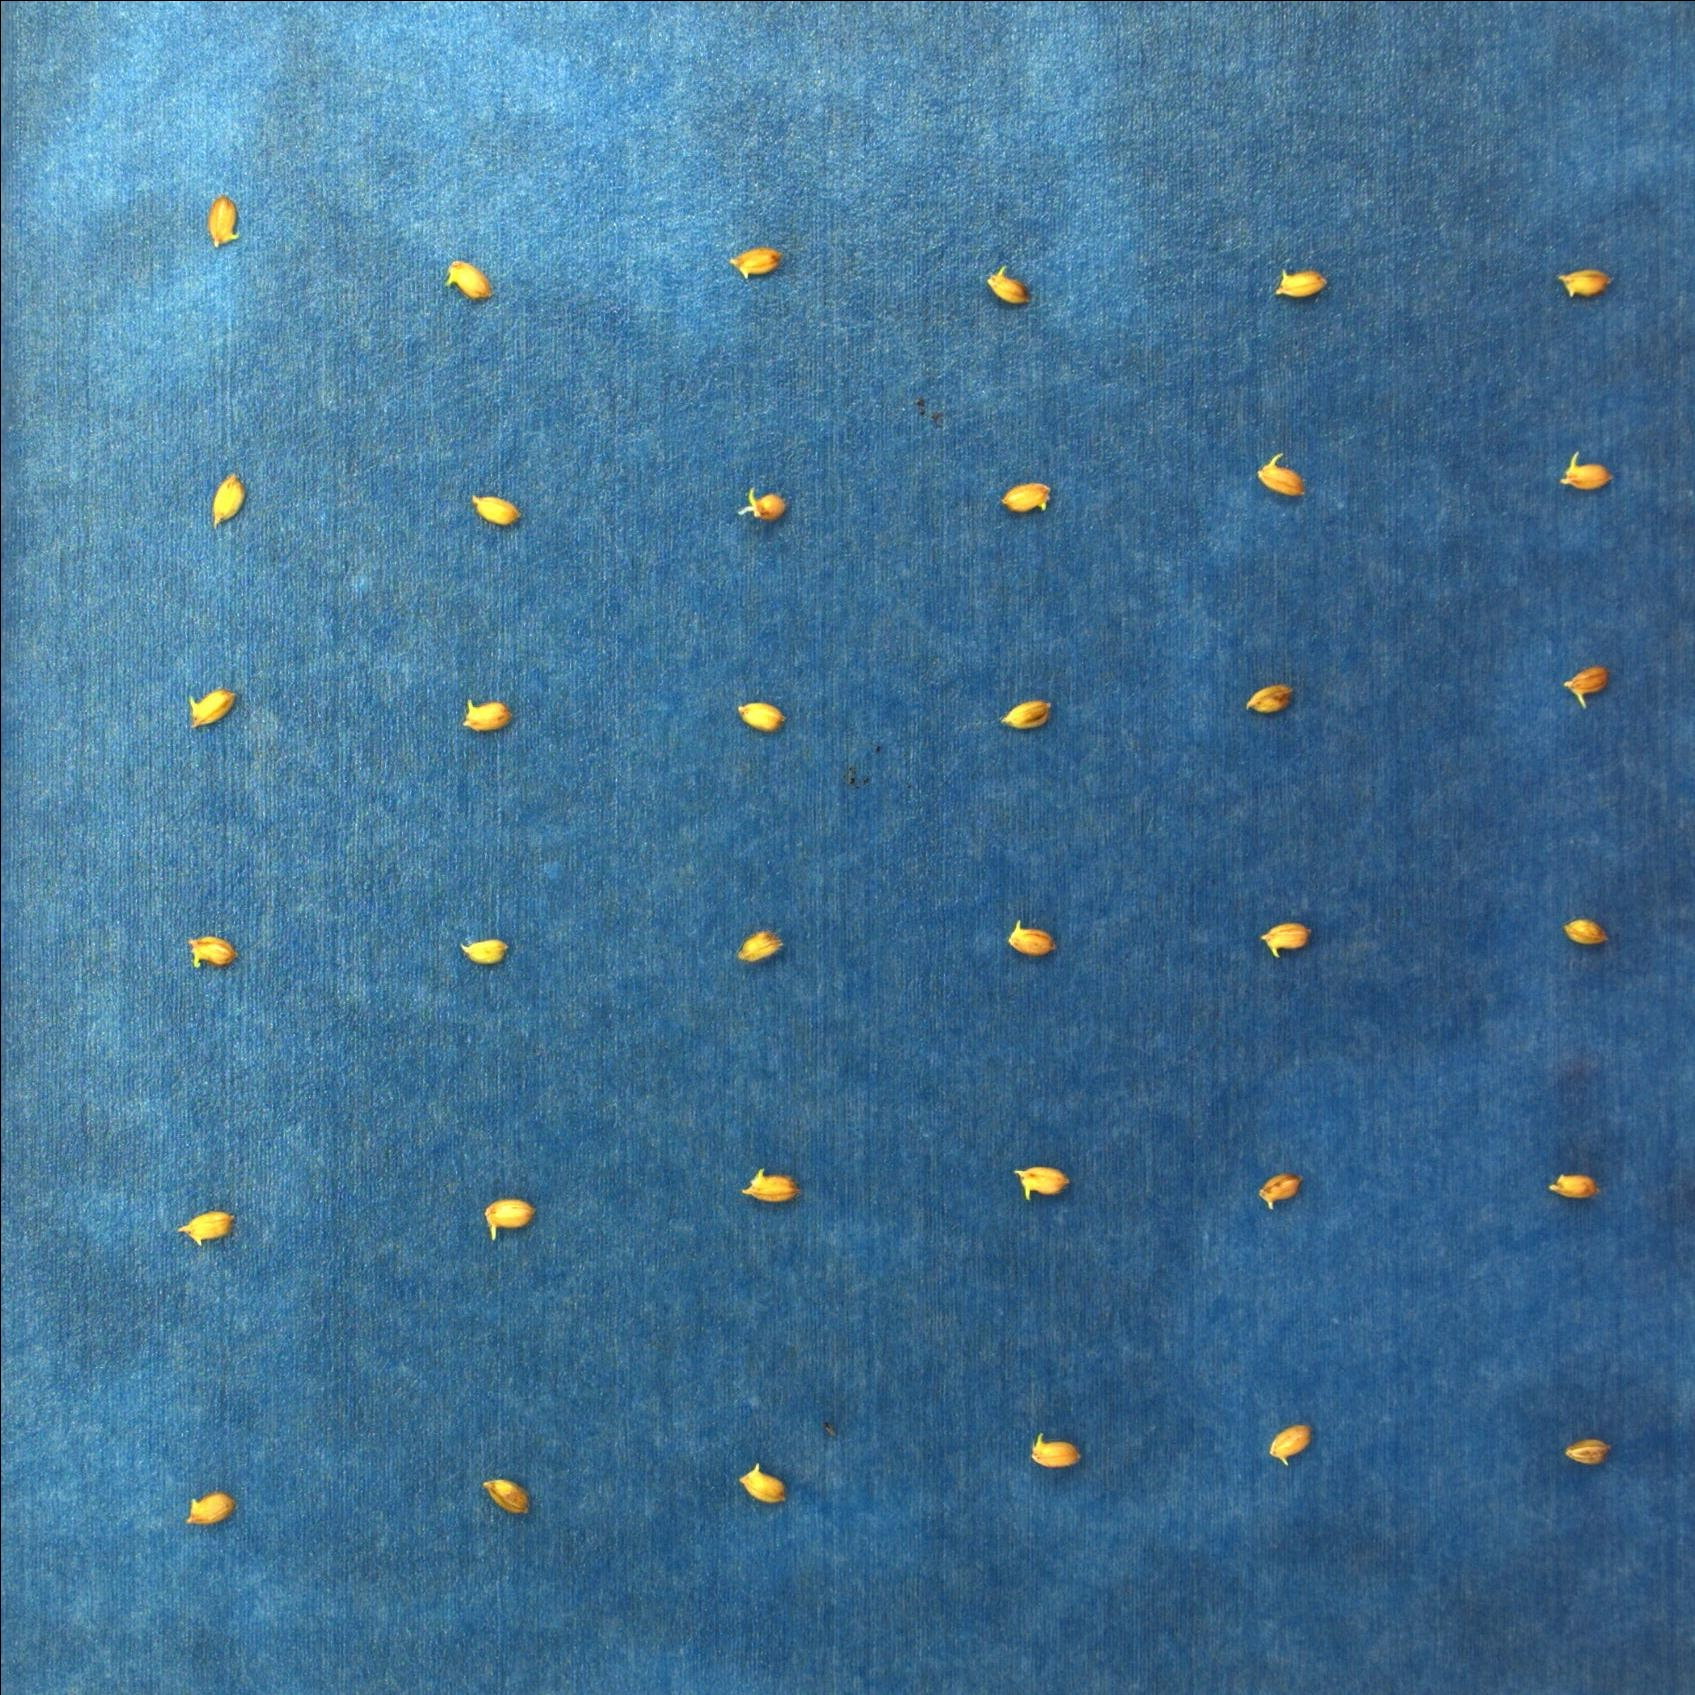not sprout: (206, 470, 251, 532), (1257, 920, 1316, 967), (203, 185, 245, 250), (733, 1458, 787, 1507), (1004, 917, 1057, 964), (1560, 449, 1620, 489), (733, 698, 792, 739), (483, 1198, 536, 1243), (1254, 455, 1309, 498), (1251, 1170, 1305, 1214), (445, 258, 494, 306), (186, 686, 236, 733), (1549, 265, 1614, 300), (1263, 1423, 1315, 1465), (175, 1209, 236, 1243), (742, 1166, 799, 1201), (1562, 669, 1611, 709), (473, 487, 522, 528), (1248, 680, 1298, 719), (453, 700, 512, 733), (1000, 695, 1055, 730), (740, 483, 785, 525), (481, 1478, 526, 1520), (188, 931, 237, 969), (1010, 1167, 1068, 1198), (1274, 270, 1329, 303), (1562, 1436, 1613, 1470), (186, 1490, 237, 1524), (986, 267, 1028, 307), (733, 248, 787, 279), (1000, 481, 1055, 511), (1031, 1437, 1079, 1471), (1543, 1173, 1600, 1200), (459, 938, 511, 967), (737, 930, 781, 962), (1562, 919, 1603, 948)
